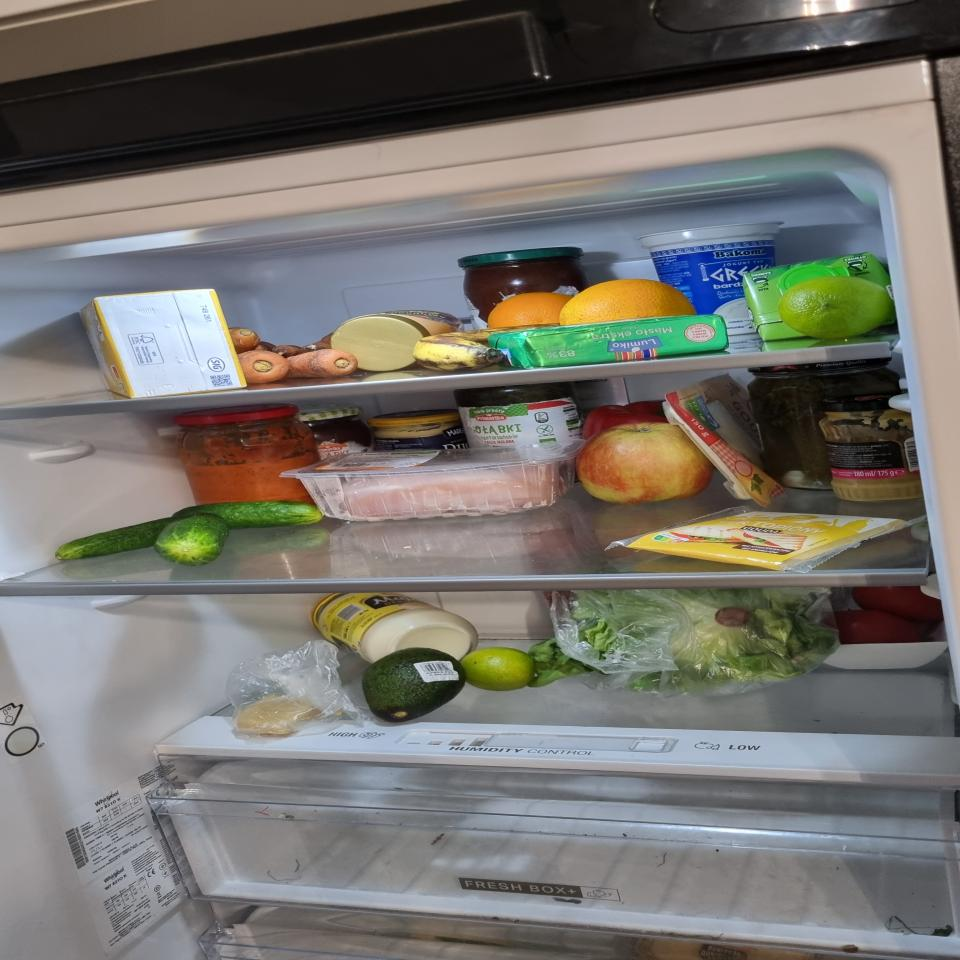Aguacate: (366, 649, 464, 722)
Carne pollo: (301, 445, 570, 516)
Leche: (81, 285, 251, 399)
Lechuga/Endivia: (558, 586, 828, 692)
Mantequilla: (497, 317, 728, 365)
Manzana: (576, 424, 712, 503)
Pepino: (49, 499, 328, 564)
Plátano: (419, 330, 504, 372)
Queso: (632, 511, 912, 568)
Tomate: (838, 612, 923, 648), (861, 585, 941, 618)
Yogur: (639, 220, 792, 350)
Zanahoria: (234, 327, 358, 382)
